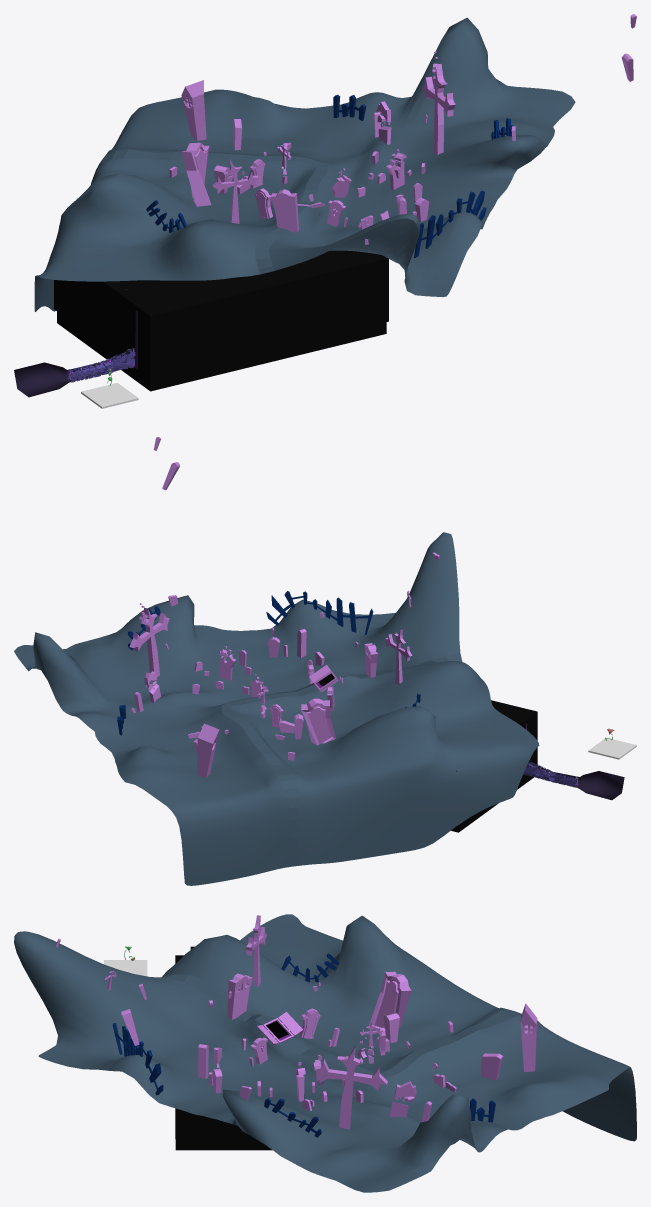
Rendered from tokotoko_layoffaedwut_final_colour_.fbx.
The picture shows the model from 3 angles, top to bottom: view 1: azimuth 30°, elevation 25°; view 2: azimuth 150°, elevation 25°; view 3: azimuth 270°, elevation 25°; orthographic projection. The views are drawn at different scales.
Visible parts, largest first — view 1: graveyard, librarywalls, Cube.181, Cube.159, Cube, Cube.160; view 2: graveyard, Cube.159, librarywalls, Cube; view 3: graveyard, librarywalls, Cube.181, Cube.
Boxes of the visible parts, left/top/right/bottom form: graveyard: left=34, top=14, right=636, bottom=311; librarywalls: left=54, top=245, right=388, bottom=379; Cube.181: left=57, top=311, right=386, bottom=391; Cube.159: left=14, top=348, right=132, bottom=397; Cube: left=81, top=383, right=138, bottom=408; Cube.160: left=70, top=351, right=135, bottom=382; graveyard: left=14, top=437, right=539, bottom=885; Cube.159: left=524, top=761, right=624, bottom=800; librarywalls: left=456, top=700, right=537, bottom=772; Cube: left=588, top=737, right=636, bottom=759; graveyard: left=14, top=914, right=636, bottom=1192; librarywalls: left=175, top=955, right=255, bottom=1139; Cube.181: left=175, top=1021, right=288, bottom=1150; Cube: left=104, top=960, right=147, bottom=976.
Bounding box in the file's own units: 28417 × 12501 × 23813.
